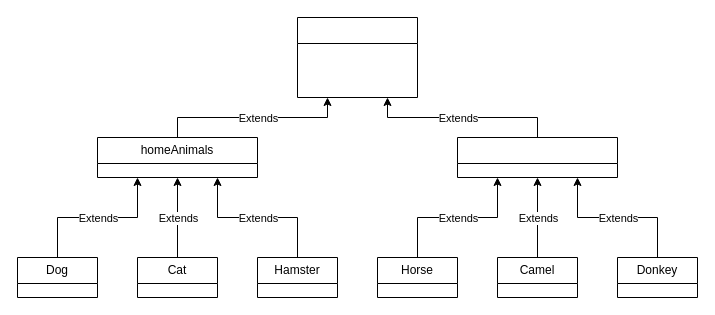
Image size: 715x315. Some labels were removed from this diagram. Here are the shapes that lost their labels. From the top down, the box of each, then its label:
(296, 16, 418, 98): Animals
(456, 136, 618, 178): packedAnimals
